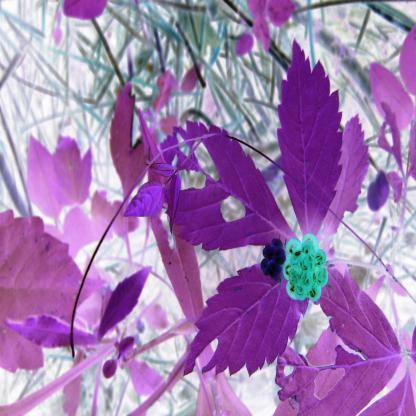raspberry leaf: (179, 261, 316, 379), (275, 32, 347, 238)
